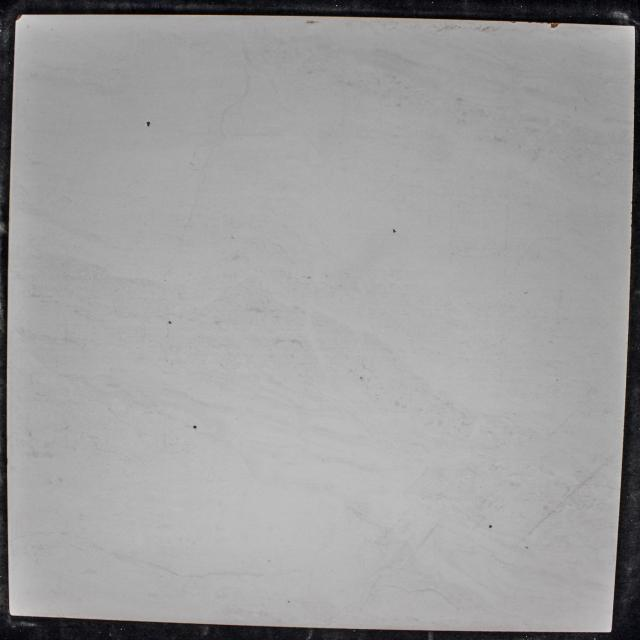edge-chipping: (550, 22, 560, 28), (15, 14, 23, 21)
hole: (146, 121, 151, 127), (168, 320, 172, 324), (193, 425, 197, 429), (393, 229, 396, 233), (488, 525, 492, 528)
